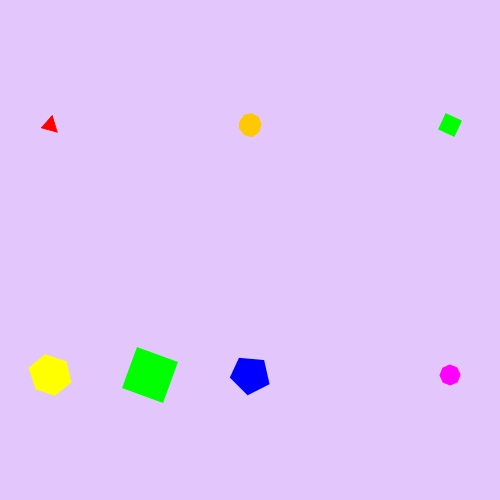hexagon: (24, 353, 76, 397)
nonagon: (234, 110, 266, 141)
octagon: (435, 360, 465, 390)
pentagon: (227, 352, 273, 398)
quadrilateral: (117, 342, 184, 409), (434, 109, 467, 142)
triangle: (38, 112, 63, 138)
